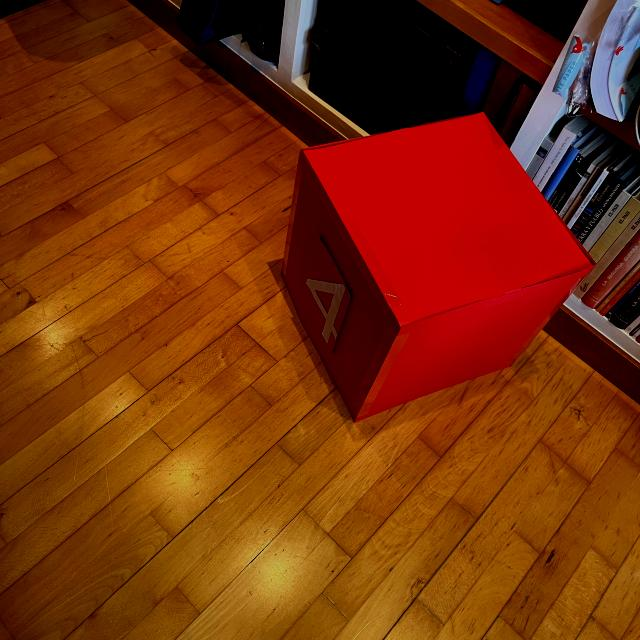box: (278, 110, 596, 423)
